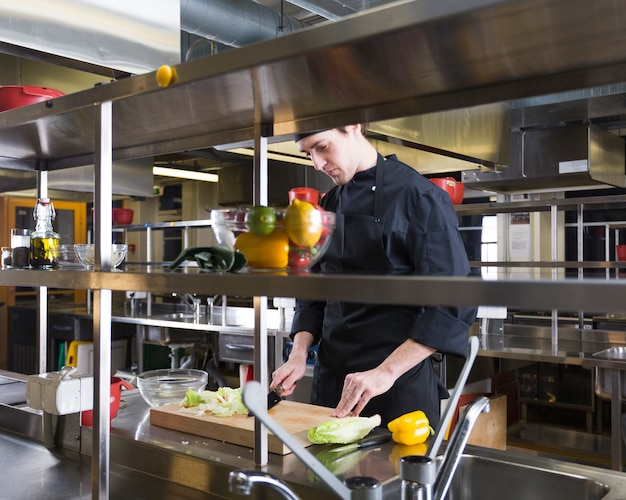knife: (249, 380, 282, 421), (328, 440, 361, 453)
